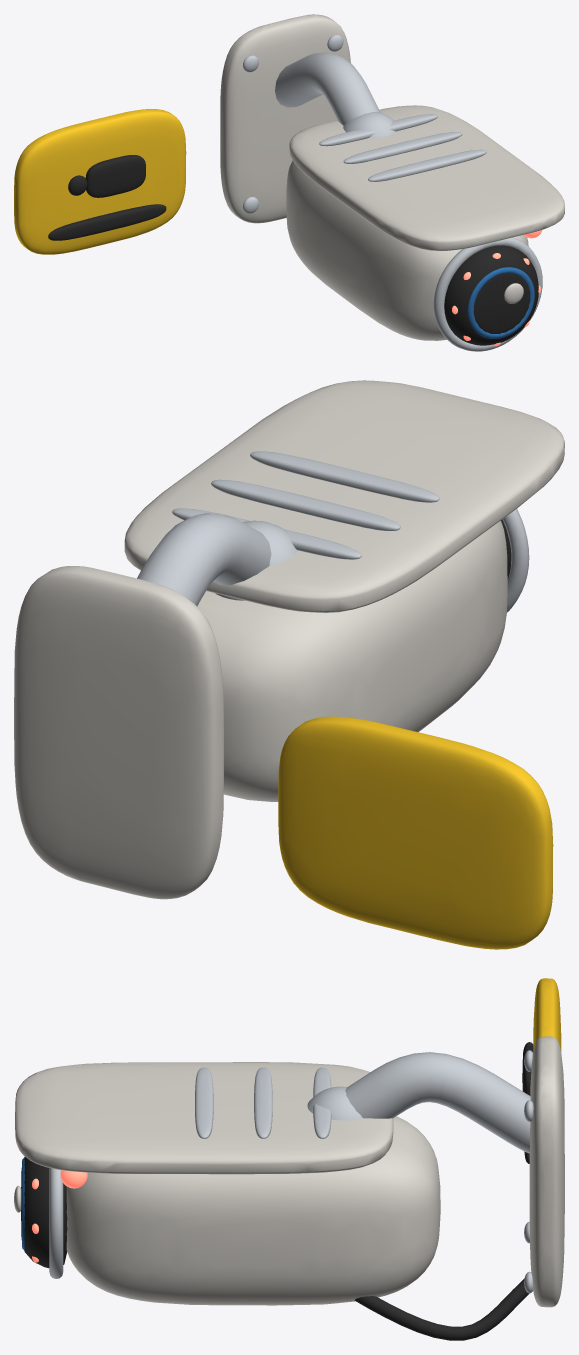
Rendered from camara.glb.
The picture shows the model from 3 angles, top to bottom: view 1: azimuth 30°, elevation 25°; view 2: azimuth 150°, elevation 25°; view 3: azimuth 270°, elevation 25°; orthographic projection. The views are drawn at different scales.
Parts seen in each view (by area): view 1: visera, letrero vigilado, placa pared, cuerpo.001, lente, brazo, aro lente, icono cámara, texto vigilado, ranura.002, ranura.001, aro lente interior (+2 smaller); view 2: placa pared, visera, letrero vigilado, cuerpo.001, brazo, ranura.002, ranura.001, aro lente, ranura, rótula; view 3: cuerpo.001, visera, brazo, placa pared, lente, cable, aro lente, letrero vigilado, ranura.001, ranura.002, rótula, ranura.
Boxes of the visible parts, box(x1,y1,x2,y2) form: visera: box(289, 105, 564, 250); letrero vigilado: box(14, 109, 186, 254); placa pared: box(220, 14, 350, 223); cuerpo.001: box(286, 160, 528, 340); lente: box(444, 245, 538, 345); brazo: box(275, 52, 380, 125); aro lente: box(433, 237, 542, 351); icono cámara: box(85, 155, 145, 197); texto vigilado: box(48, 204, 166, 240); ranura.002: box(368, 149, 486, 181); ranura.001: box(343, 132, 462, 163); aro lente interior: box(468, 267, 534, 338); placa pared: box(14, 566, 223, 899); visera: box(124, 380, 564, 612); letrero vigilado: box(278, 716, 553, 949); cuerpo.001: box(197, 520, 507, 801); brazo: box(137, 513, 271, 606); ranura.002: box(250, 451, 439, 502); ranura.001: box(211, 479, 400, 530); aro lente: box(502, 509, 529, 612); ranura: box(172, 508, 361, 559); rótula: box(215, 520, 297, 600); cuerpo.001: box(66, 1116, 440, 1305); visera: box(15, 1062, 393, 1174); brazo: box(345, 1052, 530, 1153); placa pared: box(529, 1036, 564, 1307); lente: box(21, 1157, 67, 1268); cable: box(354, 1278, 529, 1340); aro lente: box(49, 1168, 63, 1278); letrero vigilado: box(533, 978, 561, 1051); ranura.001: box(254, 1067, 272, 1138); ranura.002: box(195, 1067, 213, 1138); rótula: box(307, 1086, 362, 1120); ranura: box(313, 1067, 331, 1138).
Bounding box in the file's own units: 0.4199 × 0.2344 × 0.4658.
